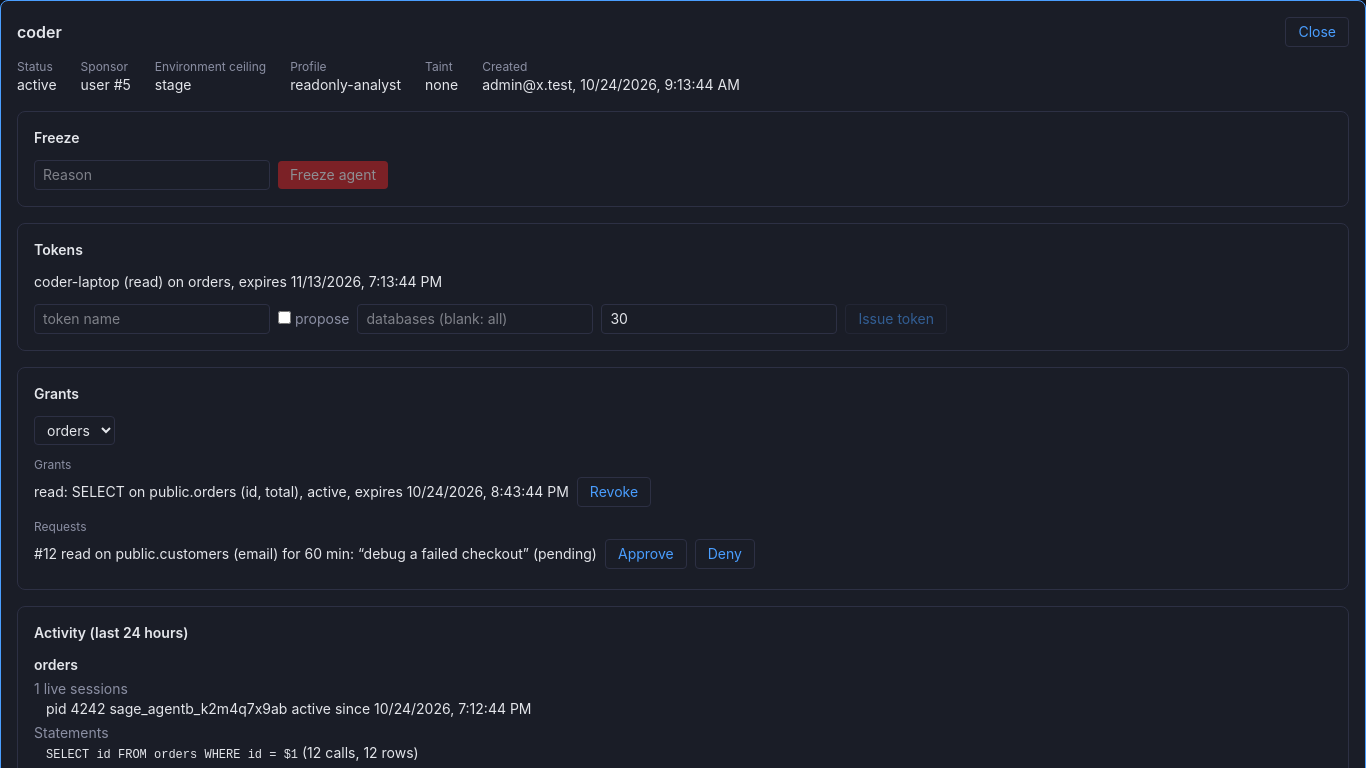
Test case: AgentDetail tokens › lists only this agent tokens and shows a new secret once
Expected: the text "active" is shown, top-left (17, 75), bottom-right (57, 95)
Expected: the list item with test id "agent-token-coder-laptop" is shown, top-left (34, 273), bottom-right (442, 290)
Step 1. Type "ci" into the field with test id "agent-token-name" → point(152, 319), box top-left (34, 304), bottom-right (270, 334)
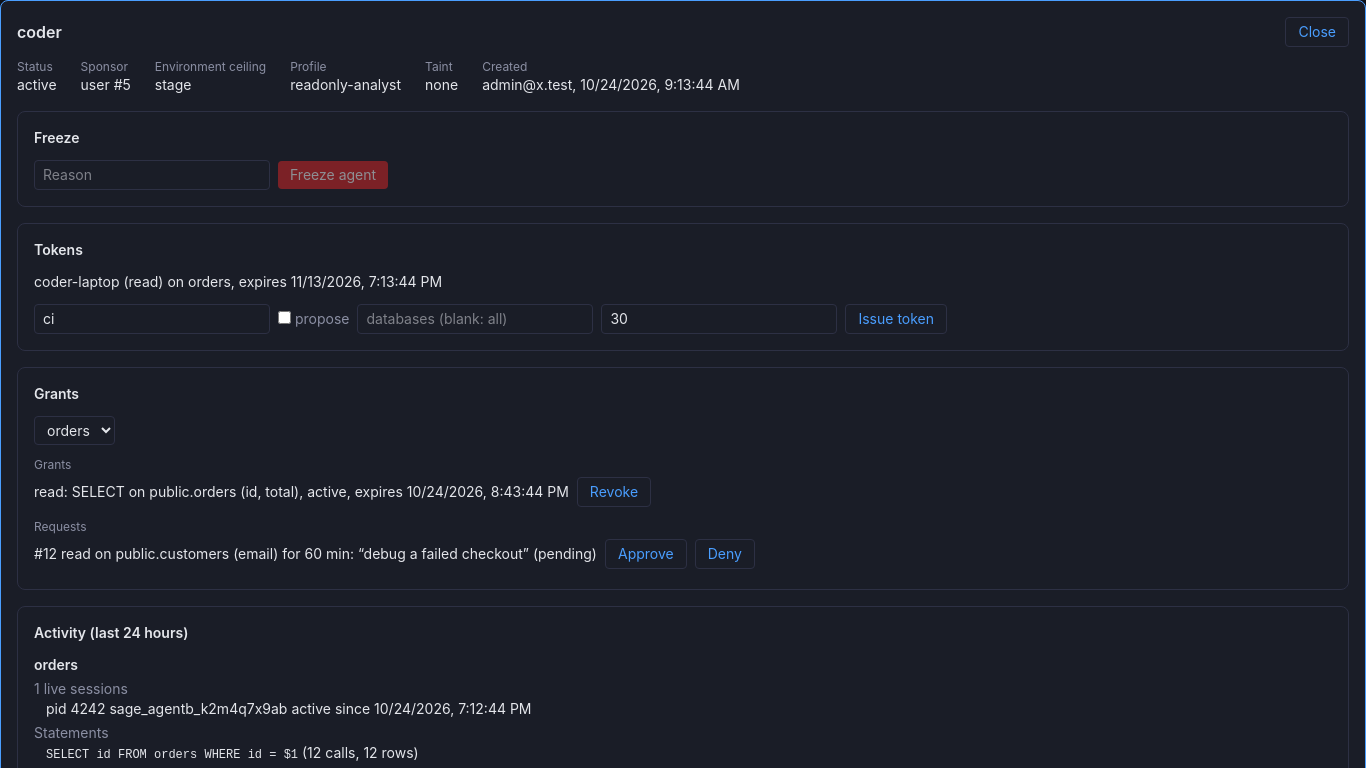
Step 2. Click the checkbox with test id "agent-token-scope-propose" → point(284, 318), box top-left (278, 311), bottom-right (291, 324)
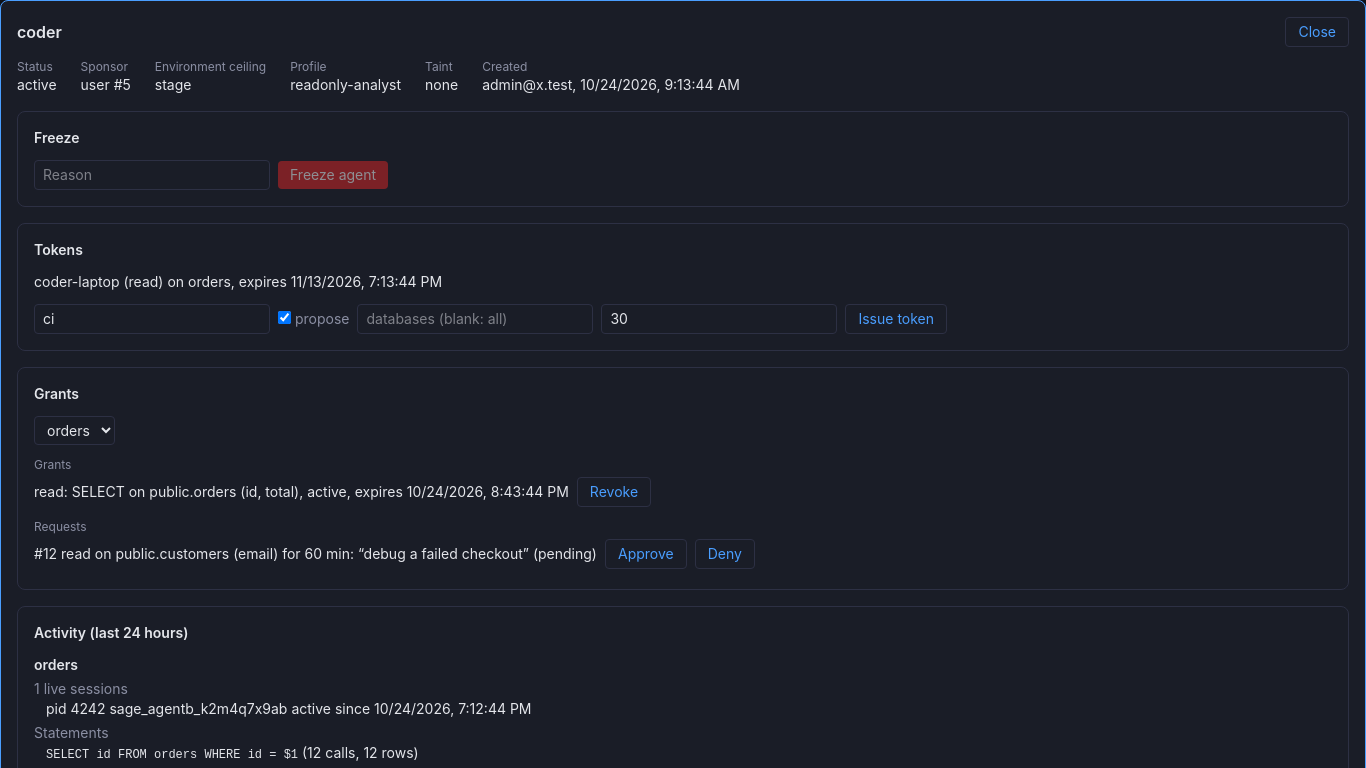
Step 3. Click the button with test id "agent-token-submit" → point(896, 319), box top-left (846, 304), bottom-right (947, 334)
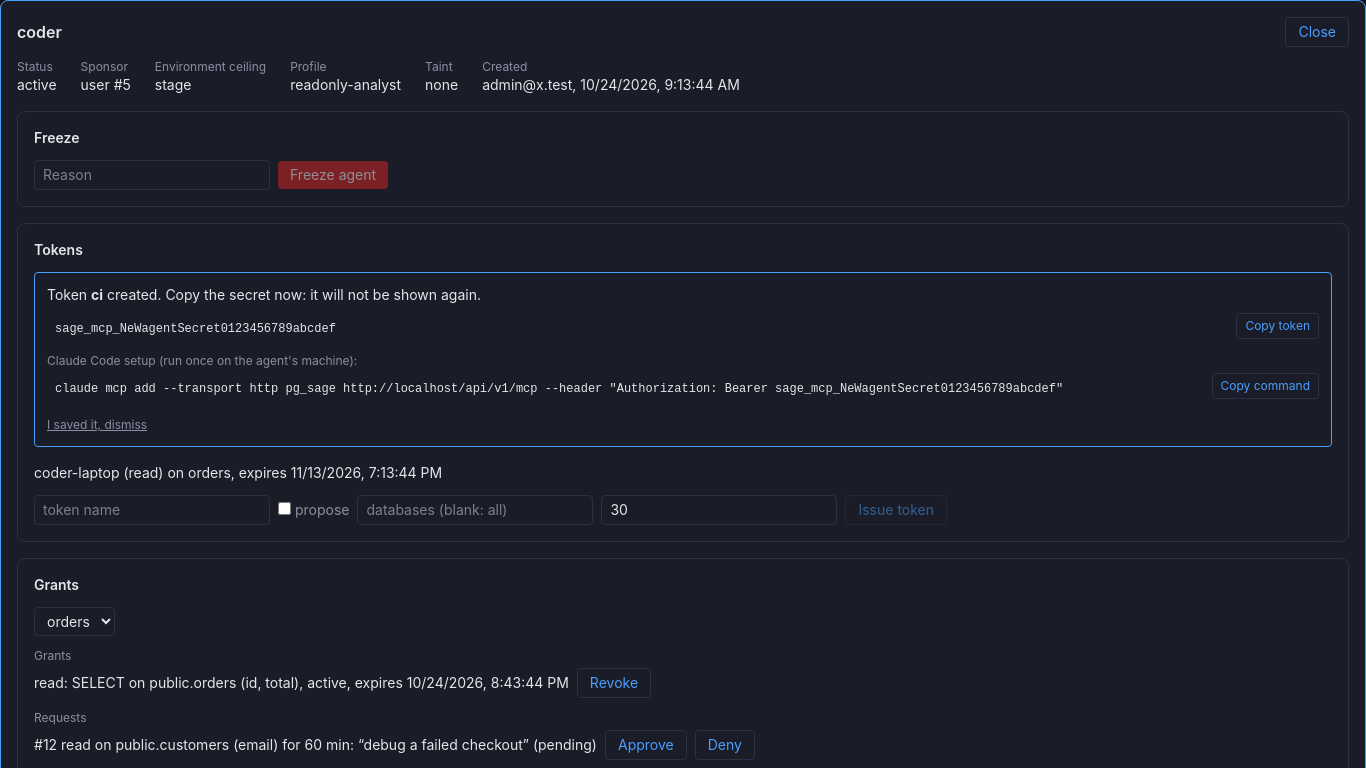
Result: the text with test id "mcp-token-secret-value" reads "sage_mcp_NeWagentSecret0123456789abcdef" at top-left (55, 322), bottom-right (336, 336)
Step 4. Click the button with test id "mcp-token-secret-dismiss" → point(97, 425), box top-left (47, 417), bottom-right (147, 433)
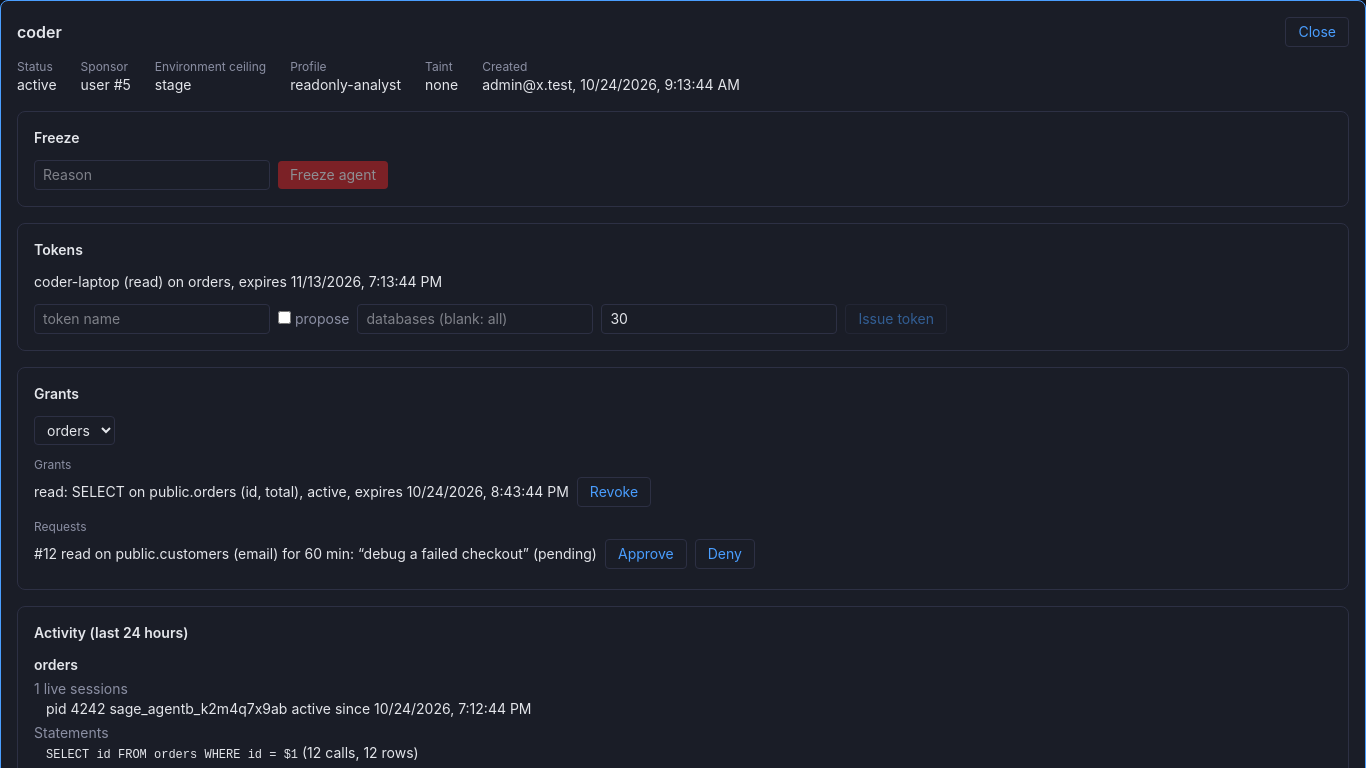
Result: the text "sage_mcp_NeWagentSecret0123456789abcdef" is gone
